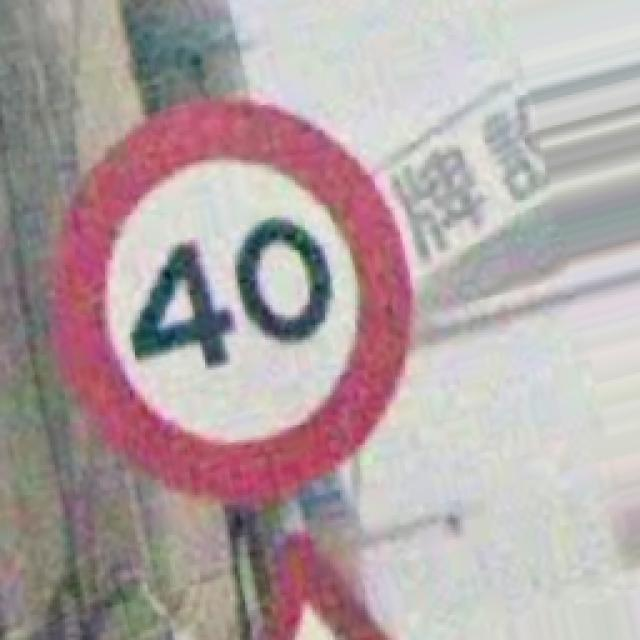Speed Limit -40-: (58, 98, 412, 502)
